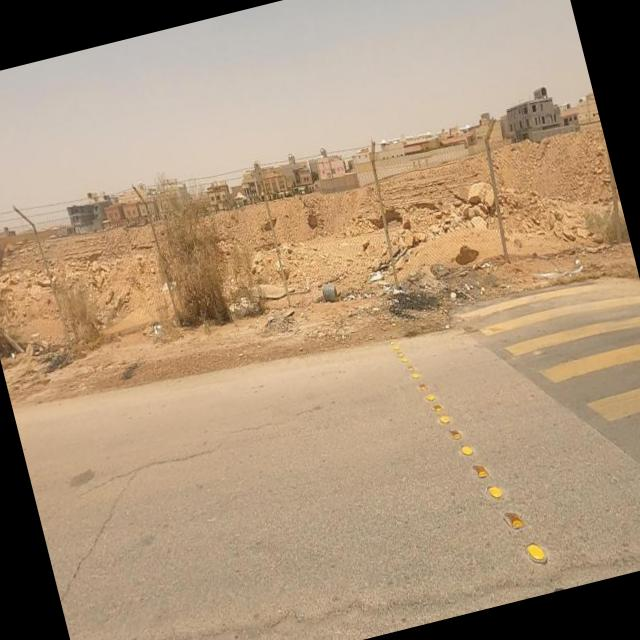debris: (288, 250, 379, 330), (358, 231, 433, 325), (416, 256, 504, 330), (521, 236, 614, 299), (349, 228, 412, 316), (127, 292, 190, 370), (468, 264, 506, 317)
